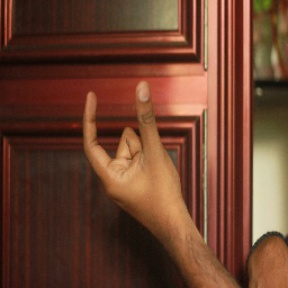U: (77, 72, 176, 214)
